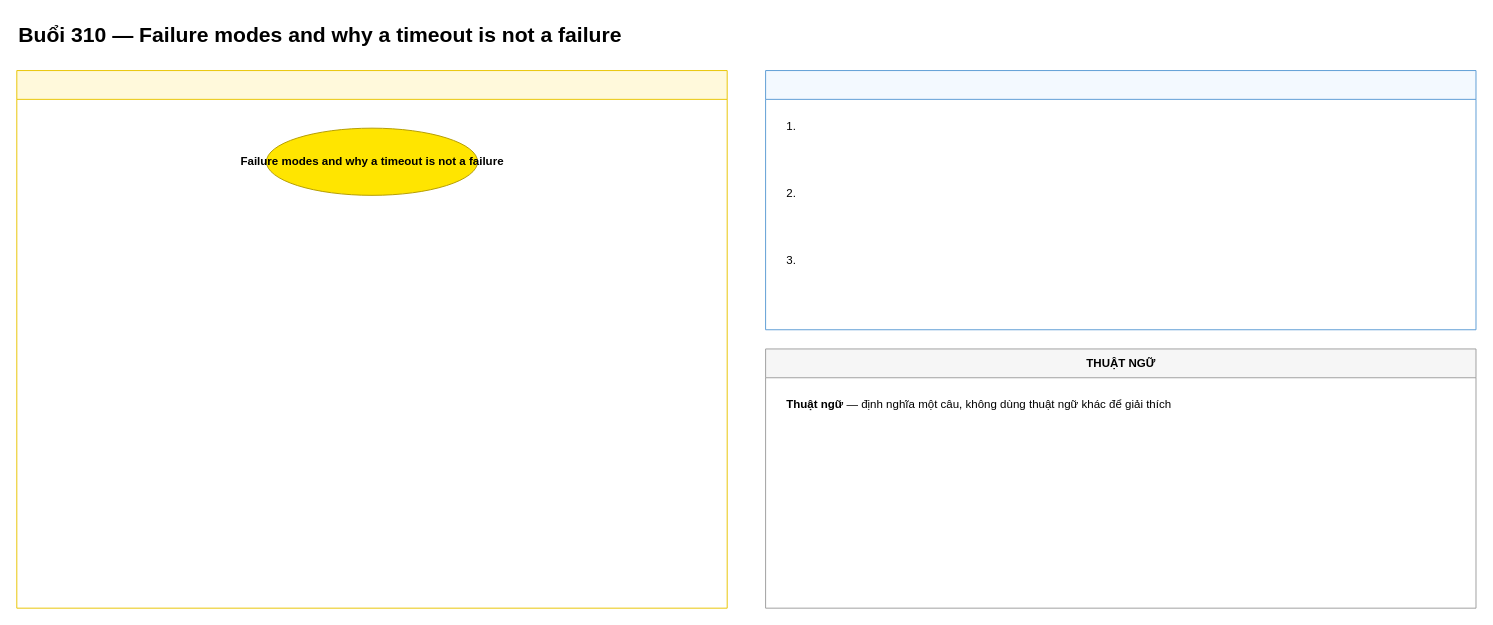
This 1493x625 diagram has some shape labels left out. Each missing label, with the box of its shape:
KEY TAKEAWAY — ba điều phải nhớ: (765, 70, 1476, 330)
MINDMAP: (16, 70, 727, 608)
